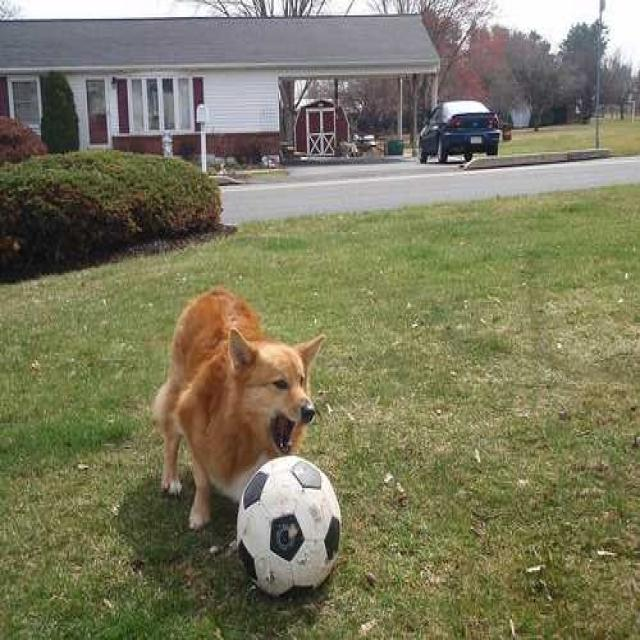ball: (236, 456, 343, 598)
